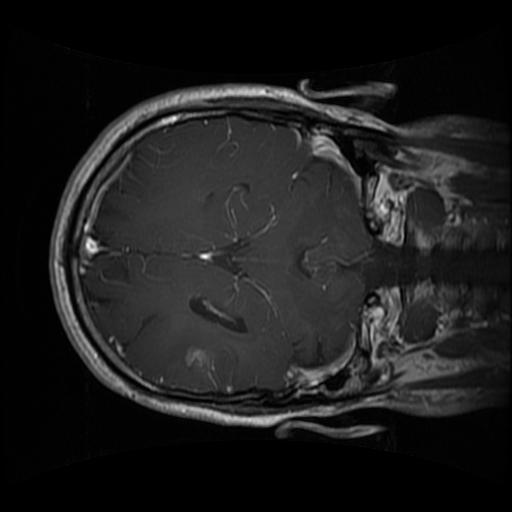glioma: (187, 297, 249, 335)
